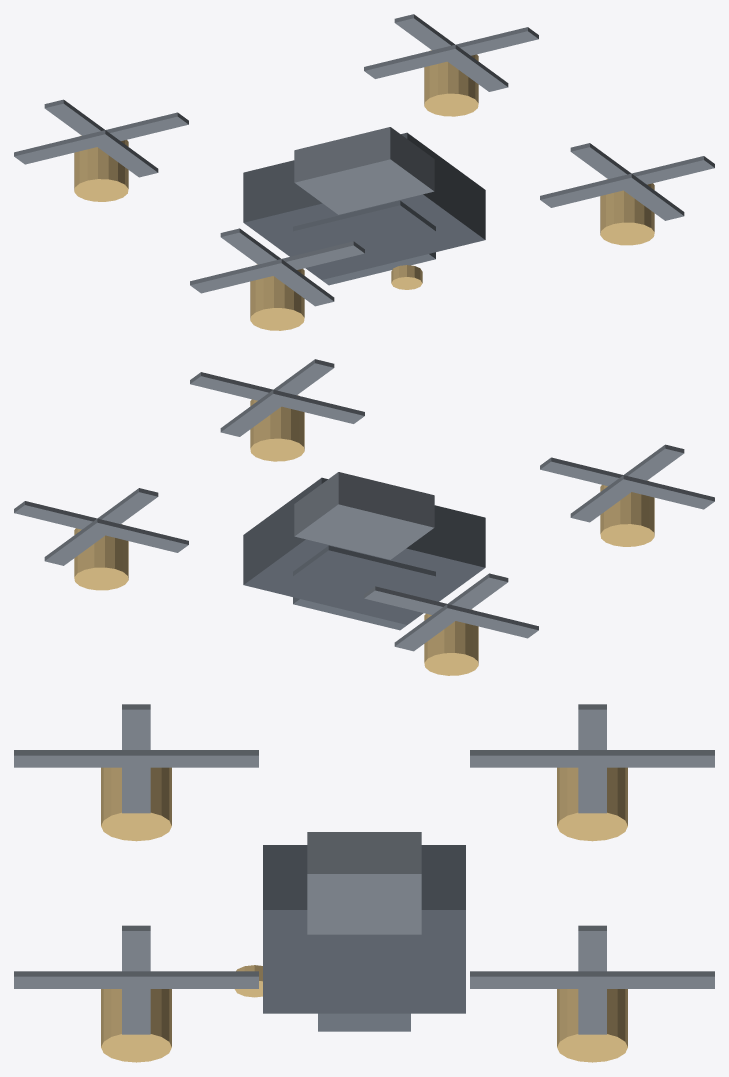
The model's file is drone.glb.
3 renders of one model, top to bottom at view 1: azimuth 30°, elevation 25°; view 2: azimuth 150°, elevation 25°; view 3: azimuth 270°, elevation 25°, orthographic. The views are drawn at different scales.
Visible parts, largest first — view 1: body, canopy, motor_1, motor_0, motor_2, motor_3, blade_a_2, blade_a_0, blade_a_3, blade_a_1, blade_b_1, blade_b_2 (+4 smaller); view 2: body, canopy, blade_a_3, motor_0, motor_1, motor_3, motor_2, blade_a_1, blade_a_0, blade_a_2, blade_b_2, blade_b_0 (+3 smaller); view 3: body, canopy, blade_b_2, blade_b_3, blade_b_0, blade_b_1, motor_2, motor_3, motor_0, motor_1, blade_a_0, blade_a_1 (+3 smaller).
Boxes of the visible parts, bbox=[...] form: body: bbox=[243, 132, 485, 279]; canopy: bbox=[294, 127, 434, 214]; motor_1: bbox=[424, 50, 478, 116]; motor_0: bbox=[600, 179, 654, 245]; motor_2: bbox=[250, 264, 304, 330]; motor_3: bbox=[74, 135, 128, 201]; blade_a_2: bbox=[190, 241, 364, 293]; blade_a_0: bbox=[540, 156, 714, 207]; blade_a_3: bbox=[14, 112, 188, 164]; blade_a_1: bbox=[364, 27, 538, 78]; blade_b_1: bbox=[394, 14, 508, 91]; blade_b_2: bbox=[220, 228, 334, 306]; body: bbox=[243, 477, 485, 624]; canopy: bbox=[294, 472, 434, 559]; blade_a_3: bbox=[364, 586, 538, 638]; motor_0: bbox=[250, 395, 304, 461]; motor_1: bbox=[74, 524, 128, 590]; motor_3: bbox=[424, 609, 478, 675]; motor_2: bbox=[600, 480, 654, 546]; blade_a_1: bbox=[14, 501, 188, 552]; blade_a_0: bbox=[190, 372, 364, 423]; blade_a_2: bbox=[540, 457, 714, 509]; blade_b_2: bbox=[570, 444, 684, 522]; blade_b_0: bbox=[220, 359, 334, 436]; body: bbox=[263, 845, 465, 1013]; canopy: bbox=[307, 832, 421, 934]; blade_b_2: bbox=[14, 750, 258, 767]; blade_b_3: bbox=[470, 750, 714, 767]; blade_b_0: bbox=[14, 971, 258, 988]; blade_b_1: bbox=[470, 971, 714, 988]; motor_2: bbox=[101, 767, 171, 841]; motor_3: bbox=[557, 767, 627, 841]; motor_0: bbox=[101, 989, 171, 1062]; motor_1: bbox=[557, 989, 627, 1062]; blade_a_0: bbox=[122, 925, 150, 1034]; blade_a_1: bbox=[578, 925, 606, 1034].
Bounding box in the file's own units: 9.1 × 1.77 × 8.3.
